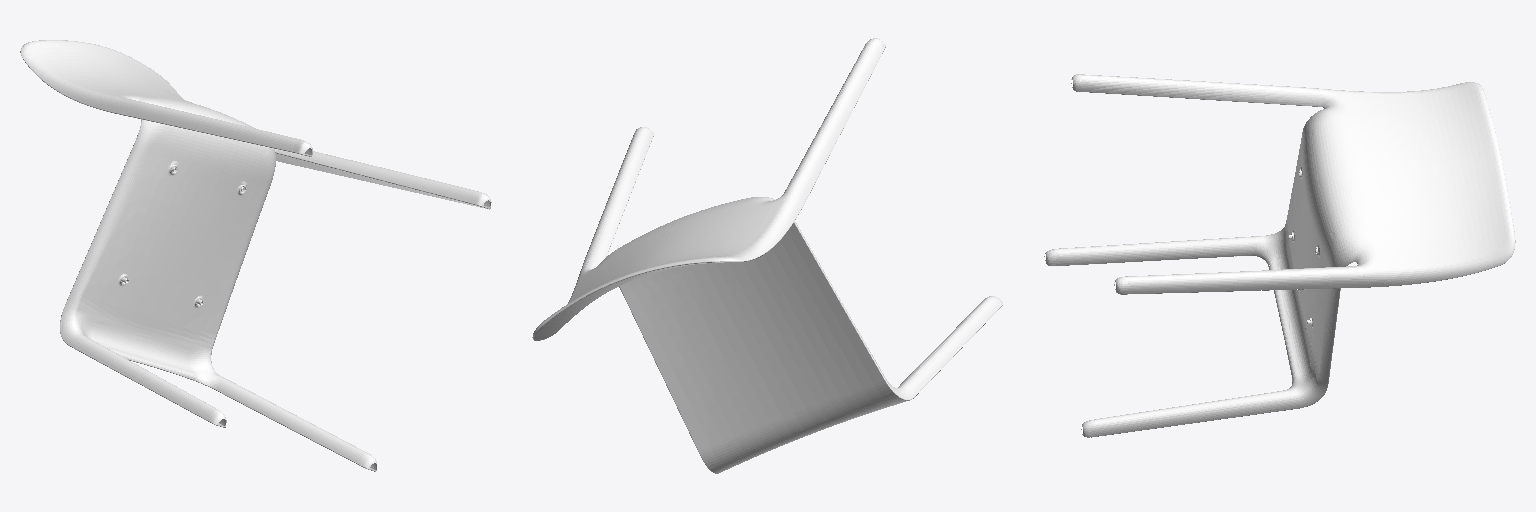
The robot description file, URDF, robot "chair_0894.urdf":
<?xml version="1.0" ?>
<robot name="chair_0894.urdf">
  <link name="baseLink">
    <contact>
      <lateral_friction value="1.0"/>
      <inertia_scaling value="1.0"/>
    </contact>
    <inertial>
      <origin rpy="0 0 0" xyz="-0.077959 0.597574 0.076298"/>
       <mass value="13.144682"/>
       <inertia ixx="1.148656" ixy="-0.091392" ixz="-0.027449" iyy="0.987012" iyz="-0.226920" izz="0.995497"/>
     </inertial>
    <visual>
      <origin rpy="0 0 0" xyz="0 0 0"/>
      <geometry>
				<mesh filename="chair_0894.obj" scale="1 1 1"/>
      </geometry>
       <material name="white">
        <color rgba="1 1 1 1"/>
      </material>
    </visual>
    <collision>
      <origin rpy="0 0 0" xyz="0 0 0"/>
      <geometry>
        <mesh filename="chair_0894_vhacd.obj" scale="1 1 1"/>
      </geometry>
    </collision>
  </link>
</robot>


--- What the picture shows (computed from the rendered views, not written in the file) ---
3 views of the same robot in one strip: view 1: azimuth 30°, elevation 25°; view 2: azimuth 150°, elevation 25°; view 3: azimuth 270°, elevation 25° (orthographic).
Robot: chair_0894.urdf — 1 links, 0 joints (none); root link baseLink; default pose: every joint at zero.
Links seen in each view (by area): view 1: baseLink; view 2: baseLink; view 3: baseLink.
Boxes of the visible links, <box> form: baseLink: <box>20,40,491,471</box>; baseLink: <box>532,38,1002,473</box>; baseLink: <box>1044,74,1515,437</box>.
Size in the robot's own frame: 0.8992 by 1.13 by 0.8705 metres.
1 mesh visuals loaded from 1 distinct referenced files (1 OBJ).